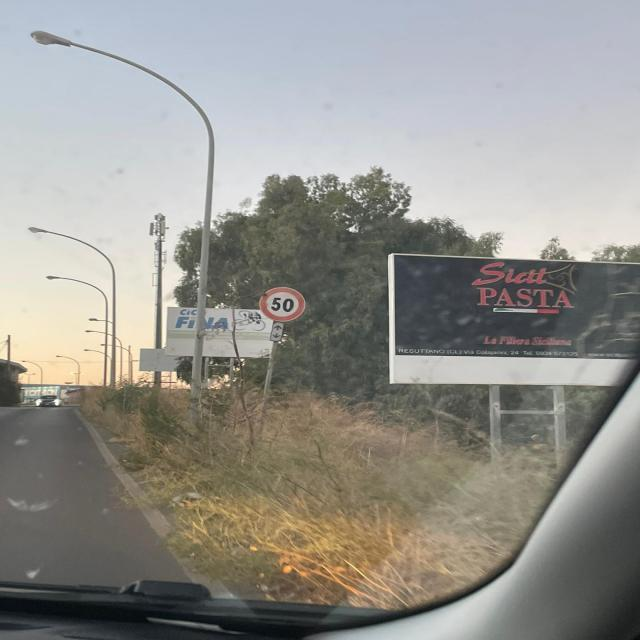forb_speed_over_50: (259, 288, 307, 322)
